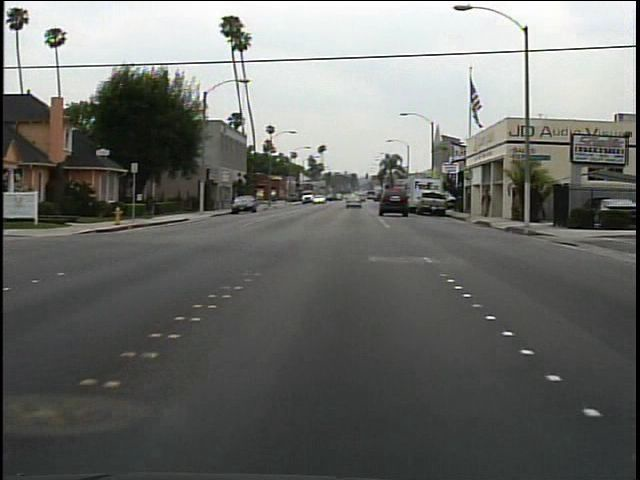person: (478, 186, 497, 220)
